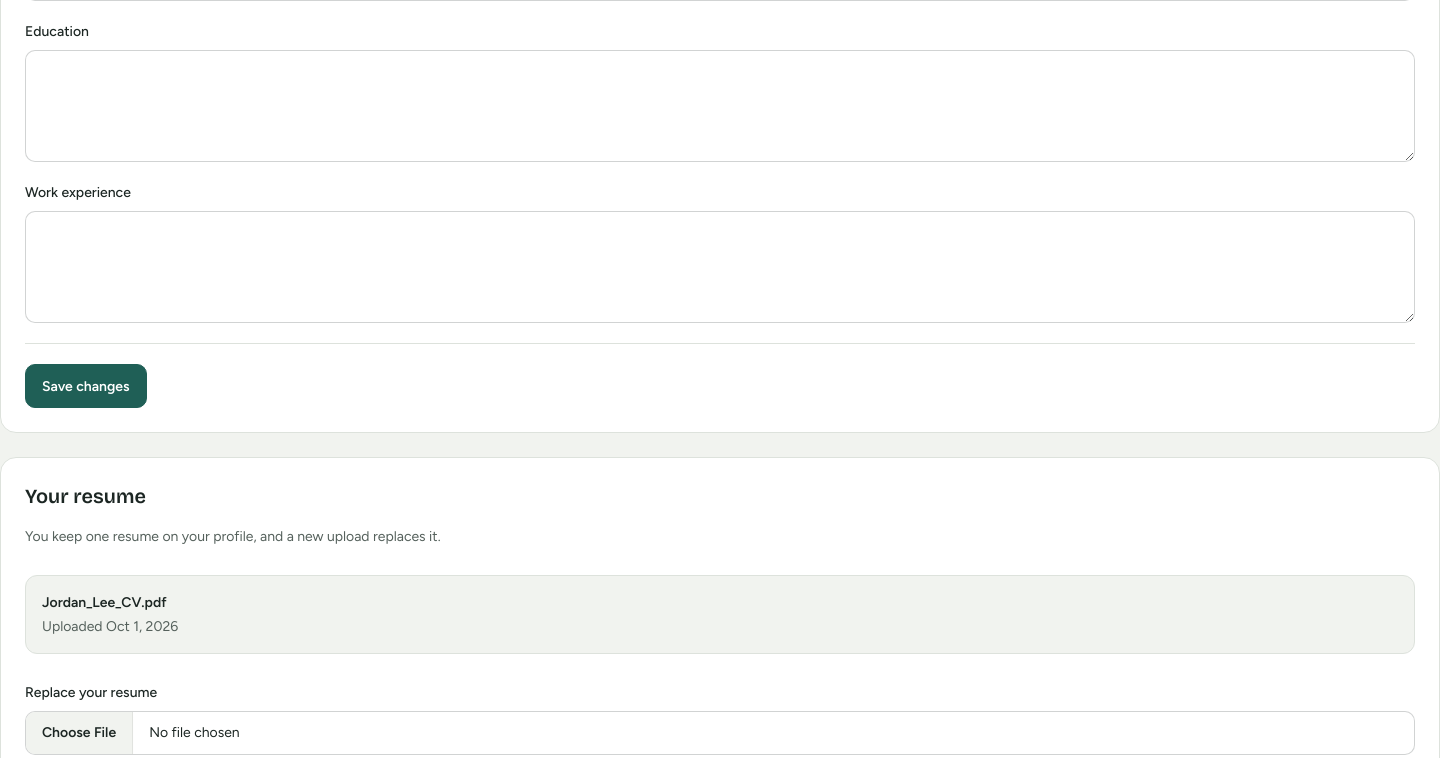
Scenario: ProfilePreview › says when the profile could not be saved
(page scrolled)
Click the button "Save changes" at (86, 386), box x1=25 y1=364 x2=146 y2=408
(page scrolled)
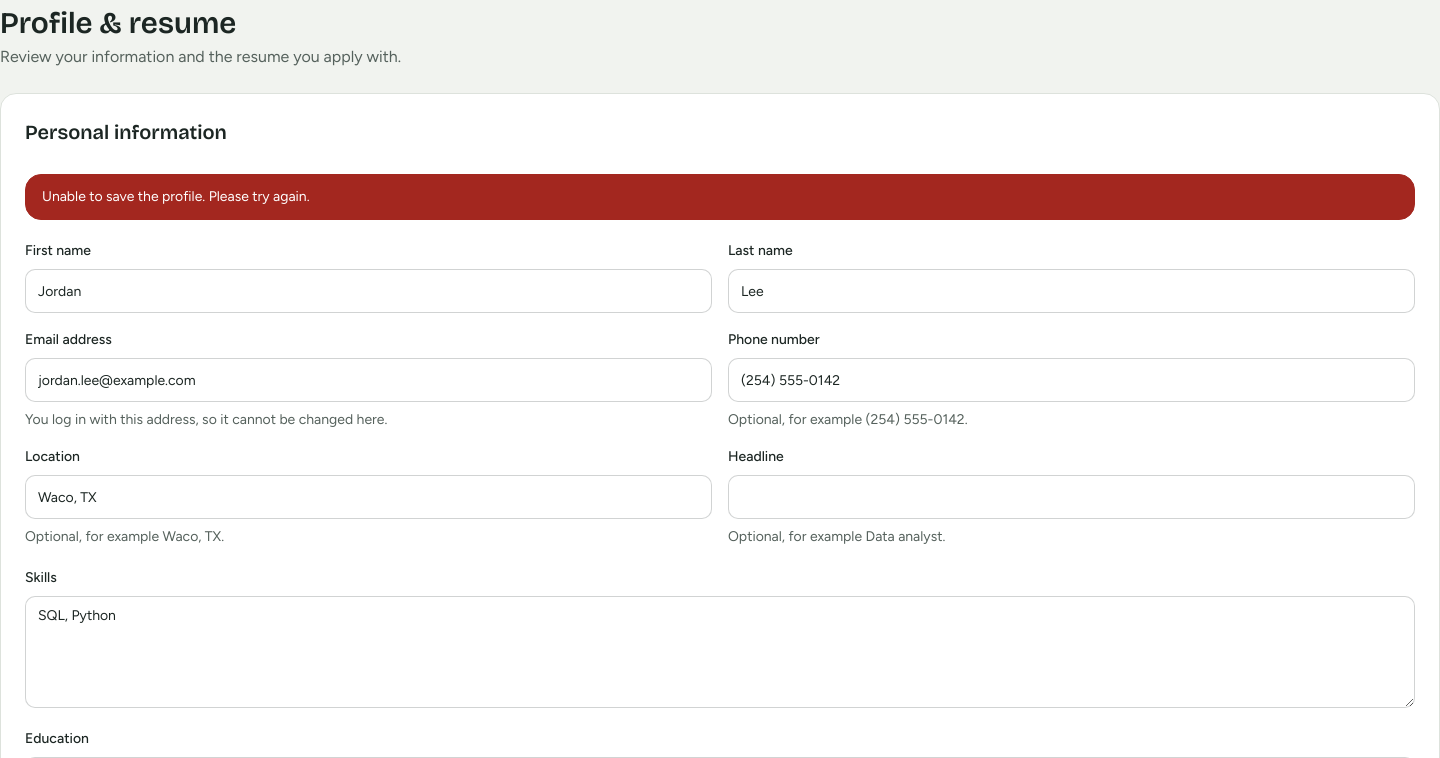
Now the message shows "Unable to save the profile", box x1=42 y1=188 x2=310 y2=205
